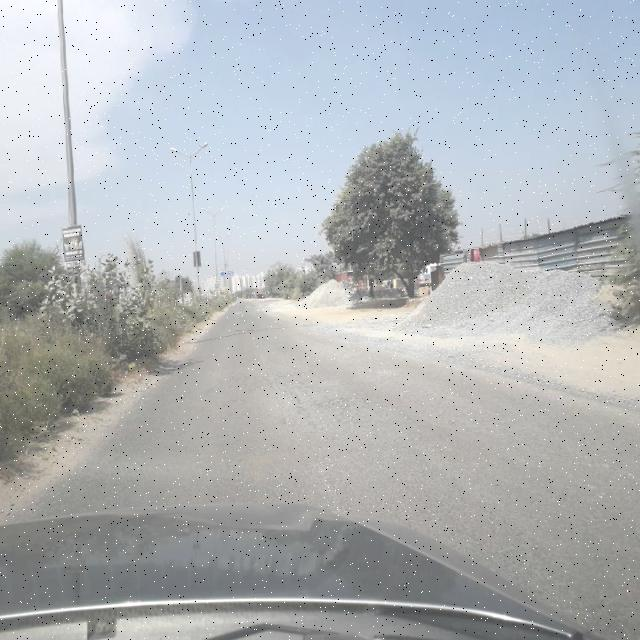D20: (320, 402, 638, 639)
D40: (264, 377, 381, 436)
